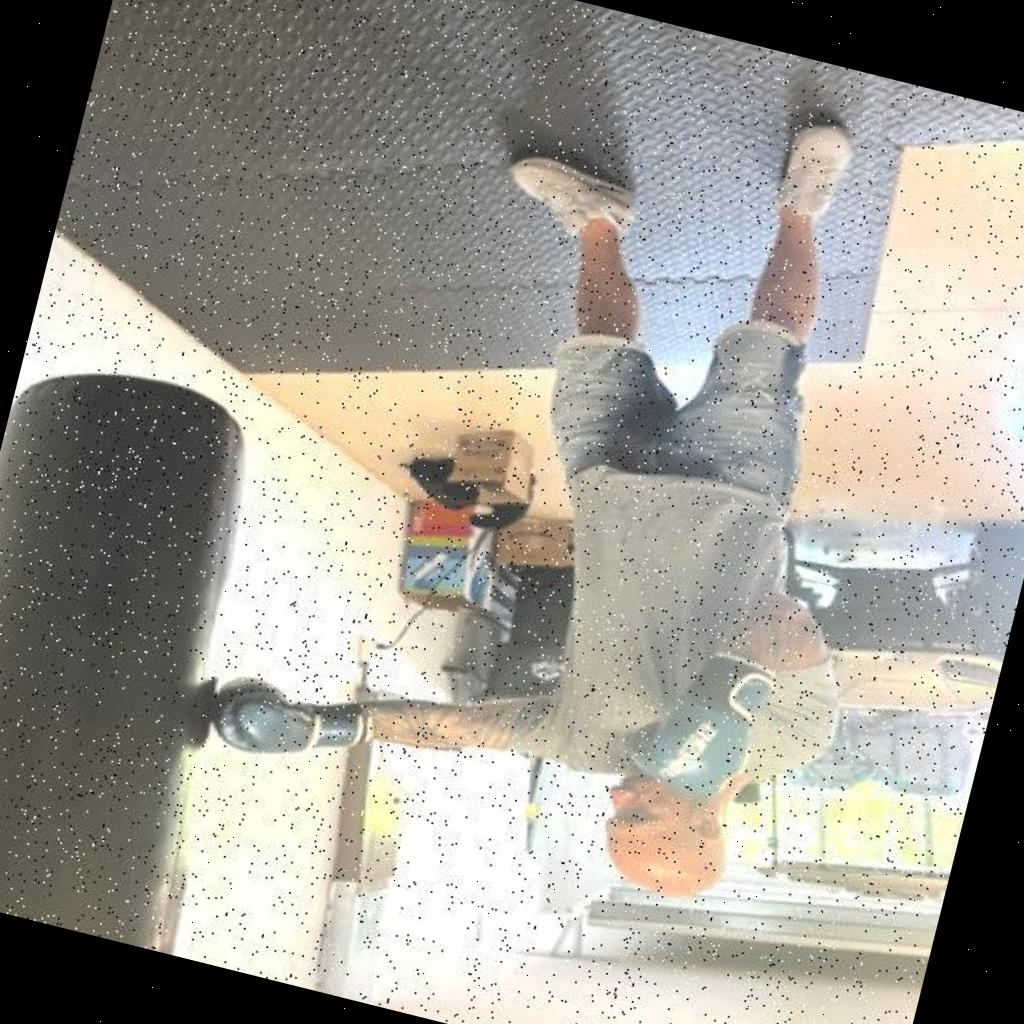jab: (60, 423, 917, 1024)
